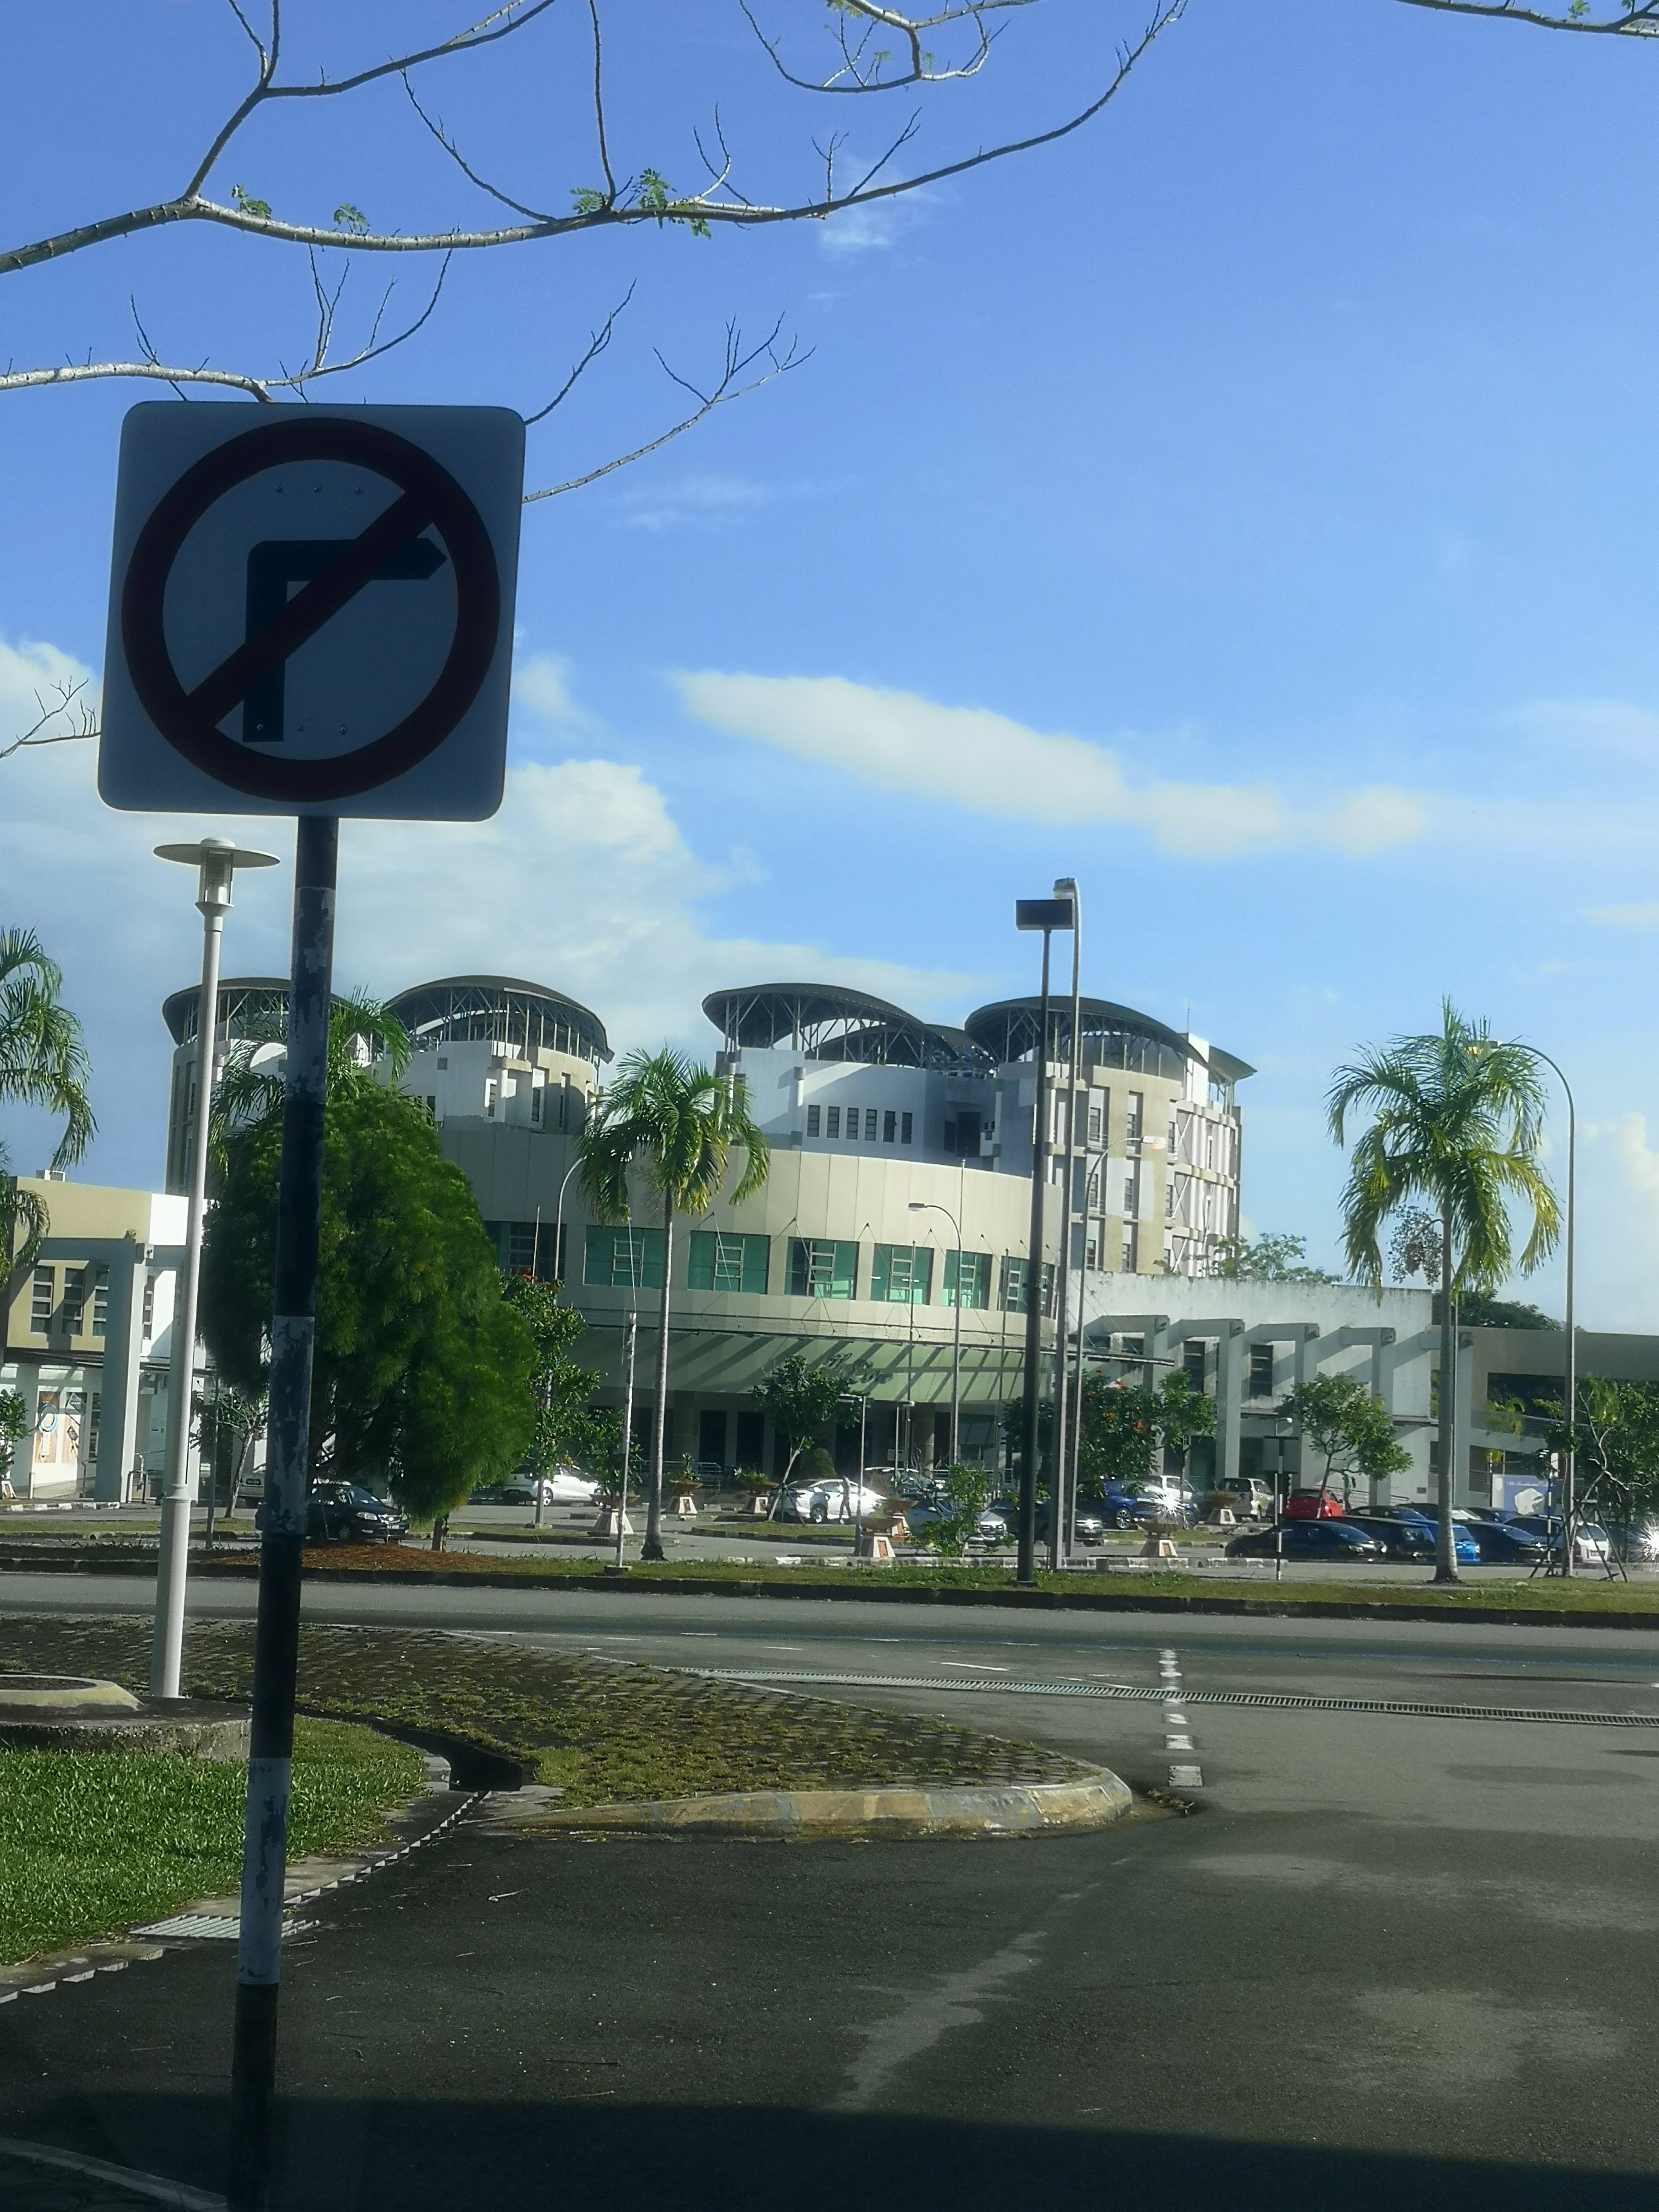no right turn: (125, 402, 528, 834)
